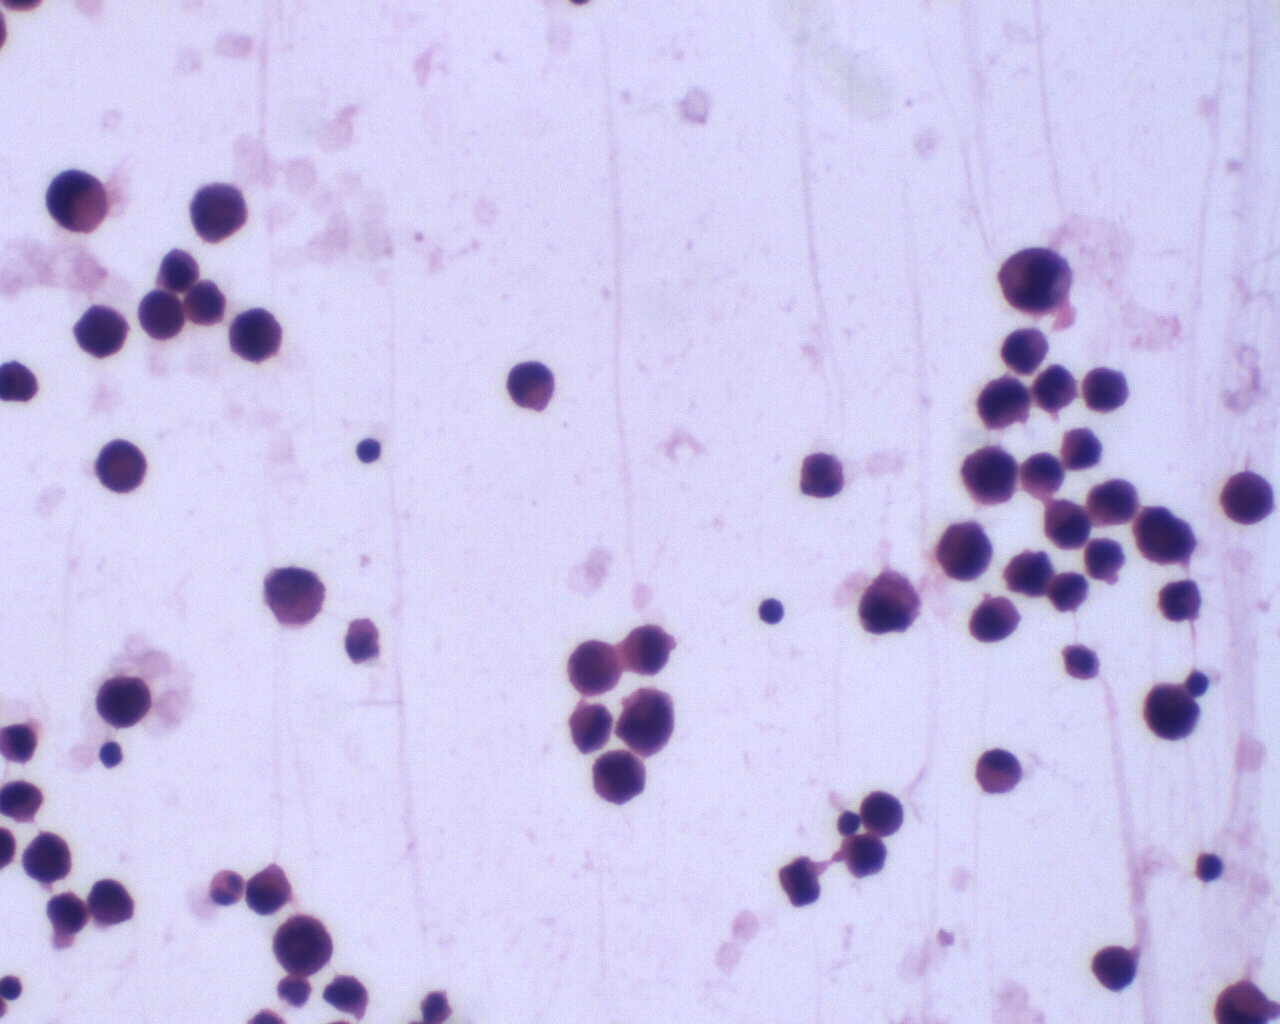ab: (999, 246, 1076, 315), (932, 518, 999, 585), (260, 564, 327, 630), (616, 686, 678, 758), (271, 913, 336, 978), (188, 180, 251, 247), (961, 443, 1021, 507), (1143, 682, 1202, 745), (1218, 468, 1278, 529), (591, 747, 650, 808), (93, 673, 155, 729), (977, 374, 1034, 433), (566, 638, 624, 697), (93, 438, 150, 496), (229, 307, 285, 366), (73, 304, 134, 358), (19, 829, 75, 885), (1087, 475, 1140, 529), (622, 623, 673, 678), (967, 592, 1020, 645), (136, 288, 187, 342), (1085, 360, 1133, 413), (1001, 324, 1050, 374), (859, 787, 907, 838), (1035, 364, 1079, 415), (185, 280, 228, 327), (157, 246, 201, 290)
lymph: (758, 594, 788, 627), (1194, 851, 1225, 882), (355, 436, 383, 464)
meso: (973, 747, 1026, 798)
